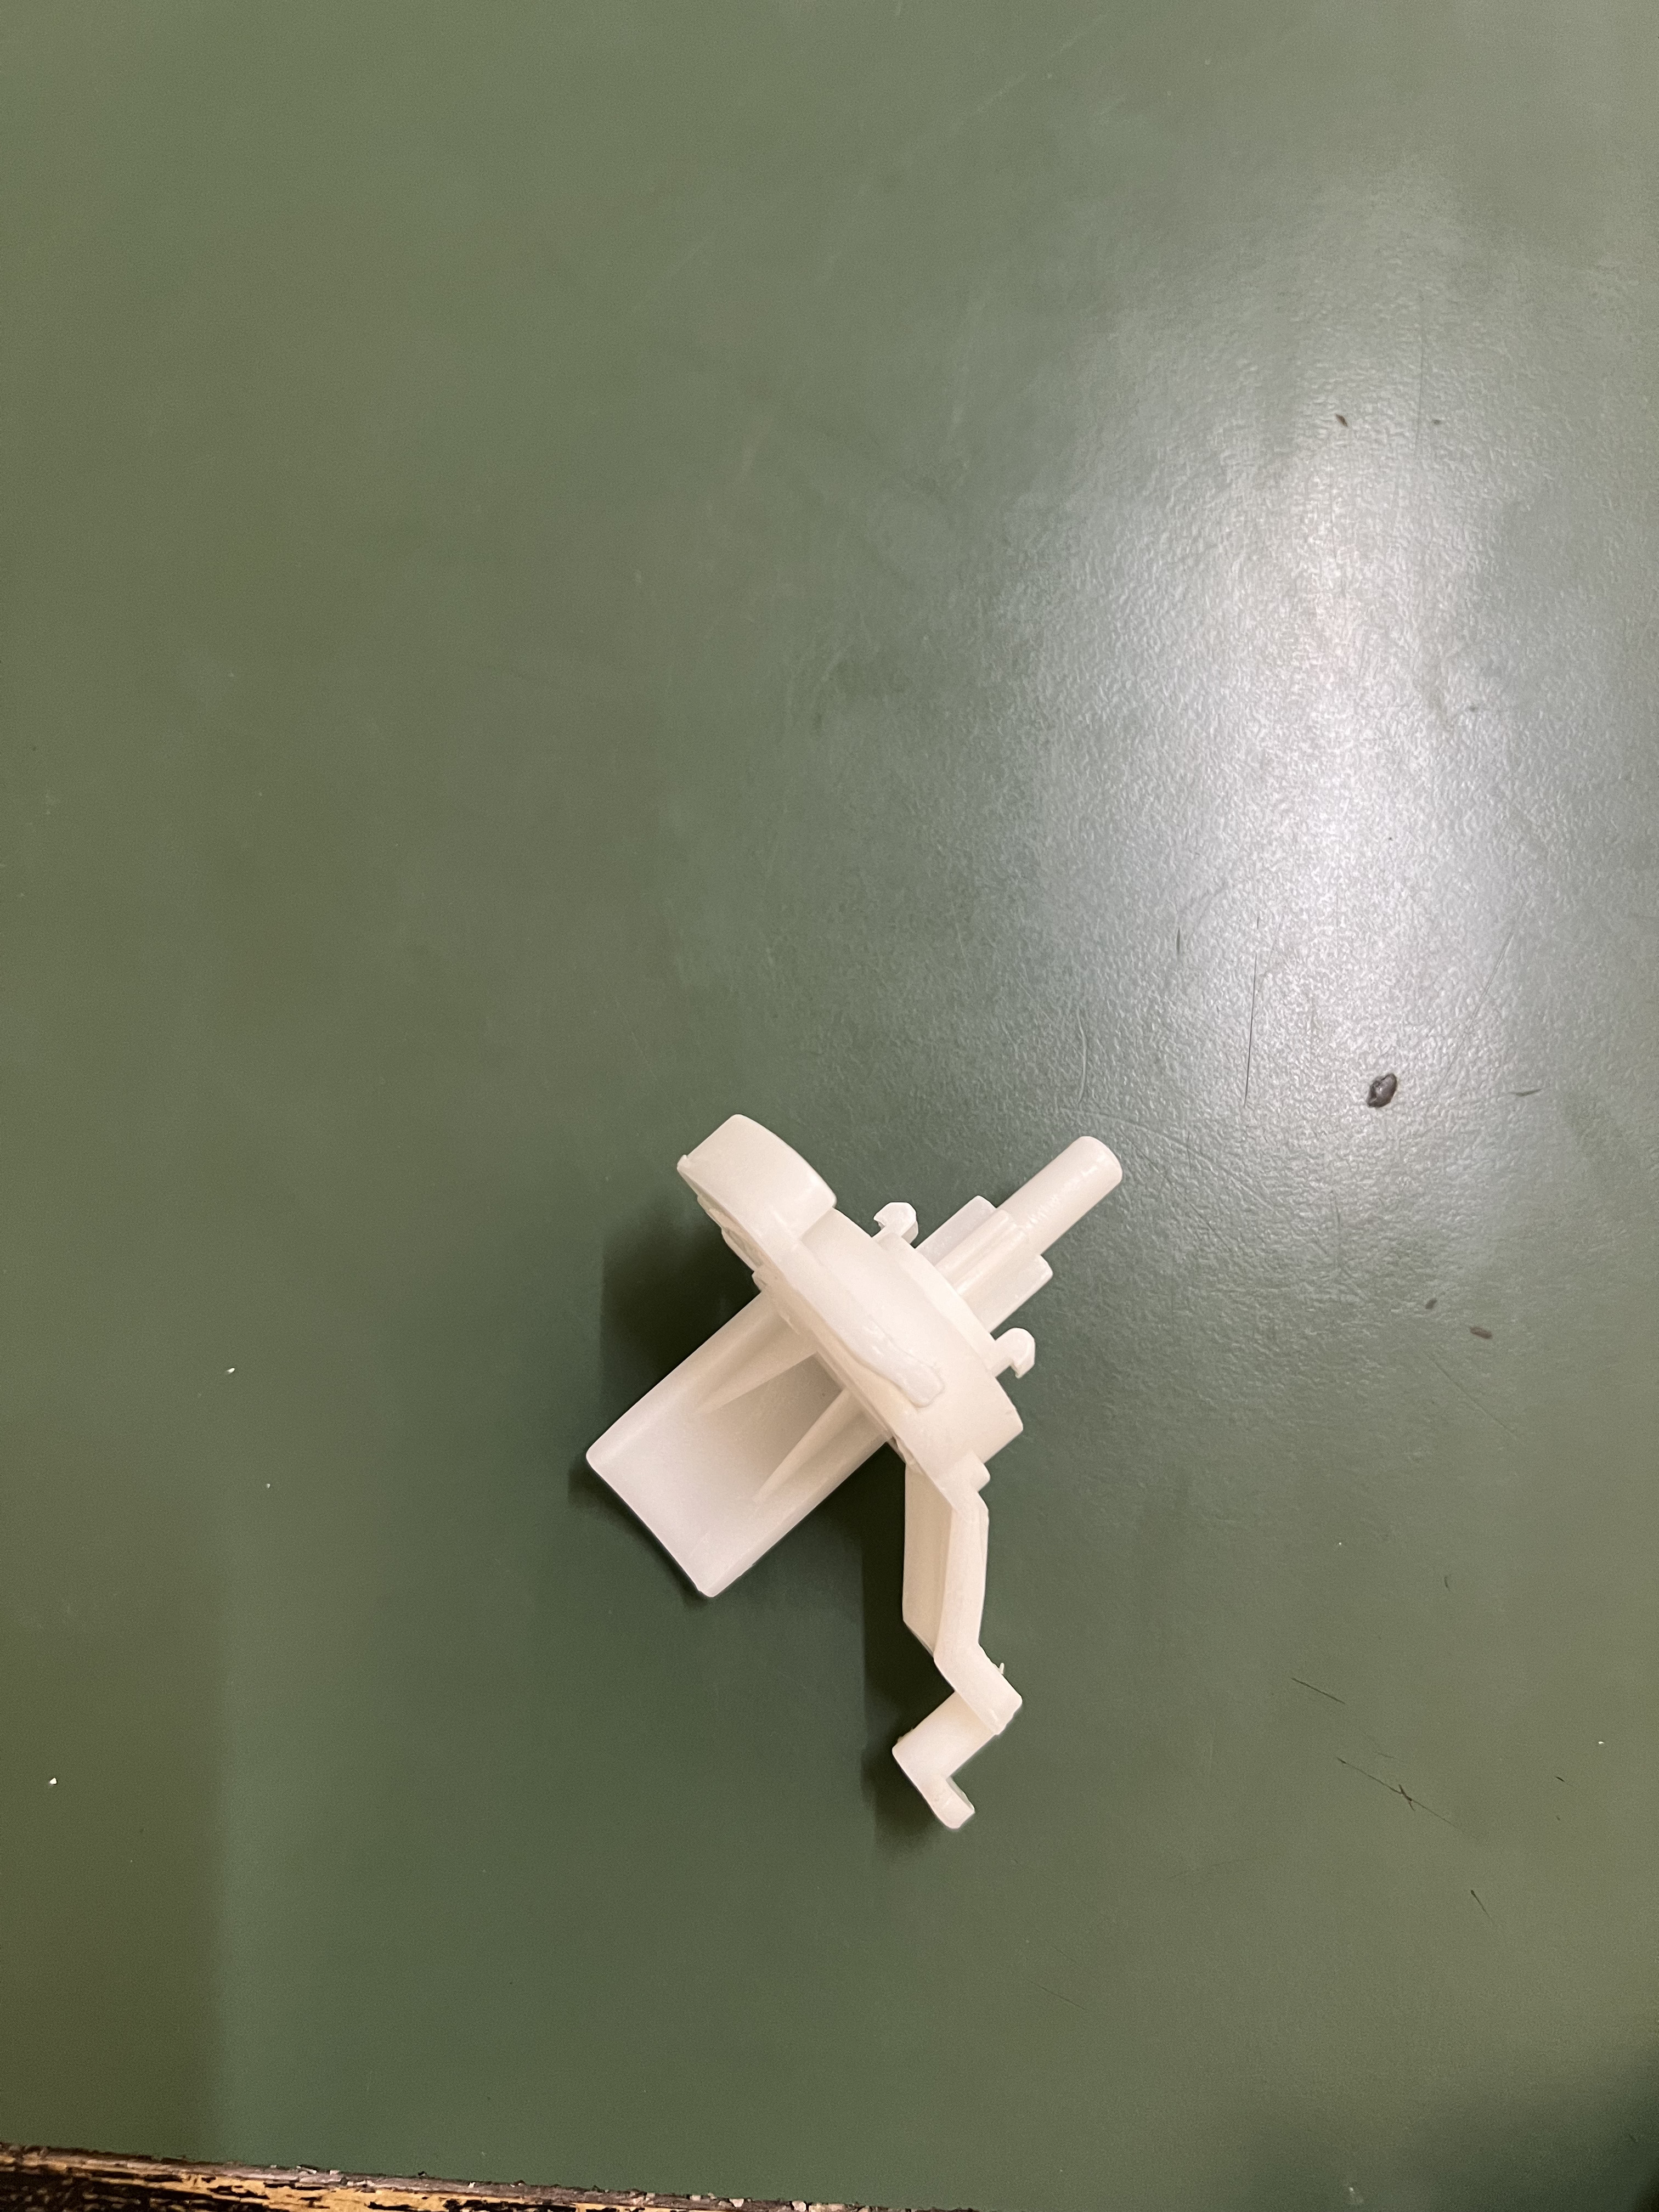drain_lever: (597, 1090, 1121, 1860)
